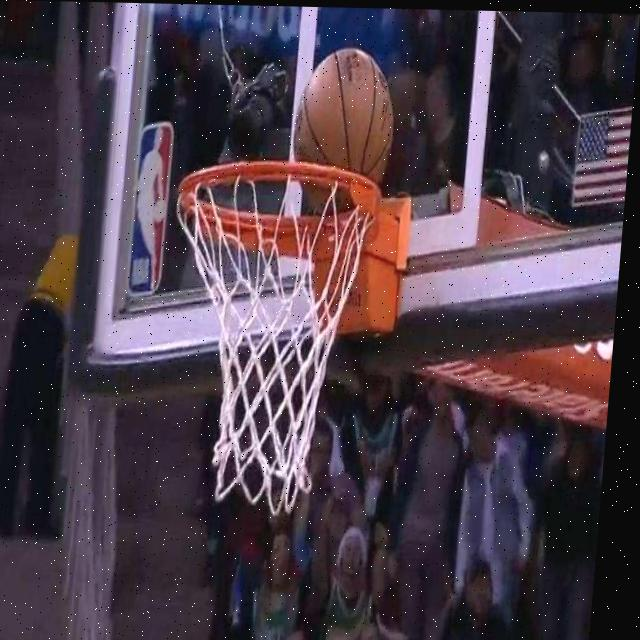rebound_hit: (288, 46, 401, 214)
